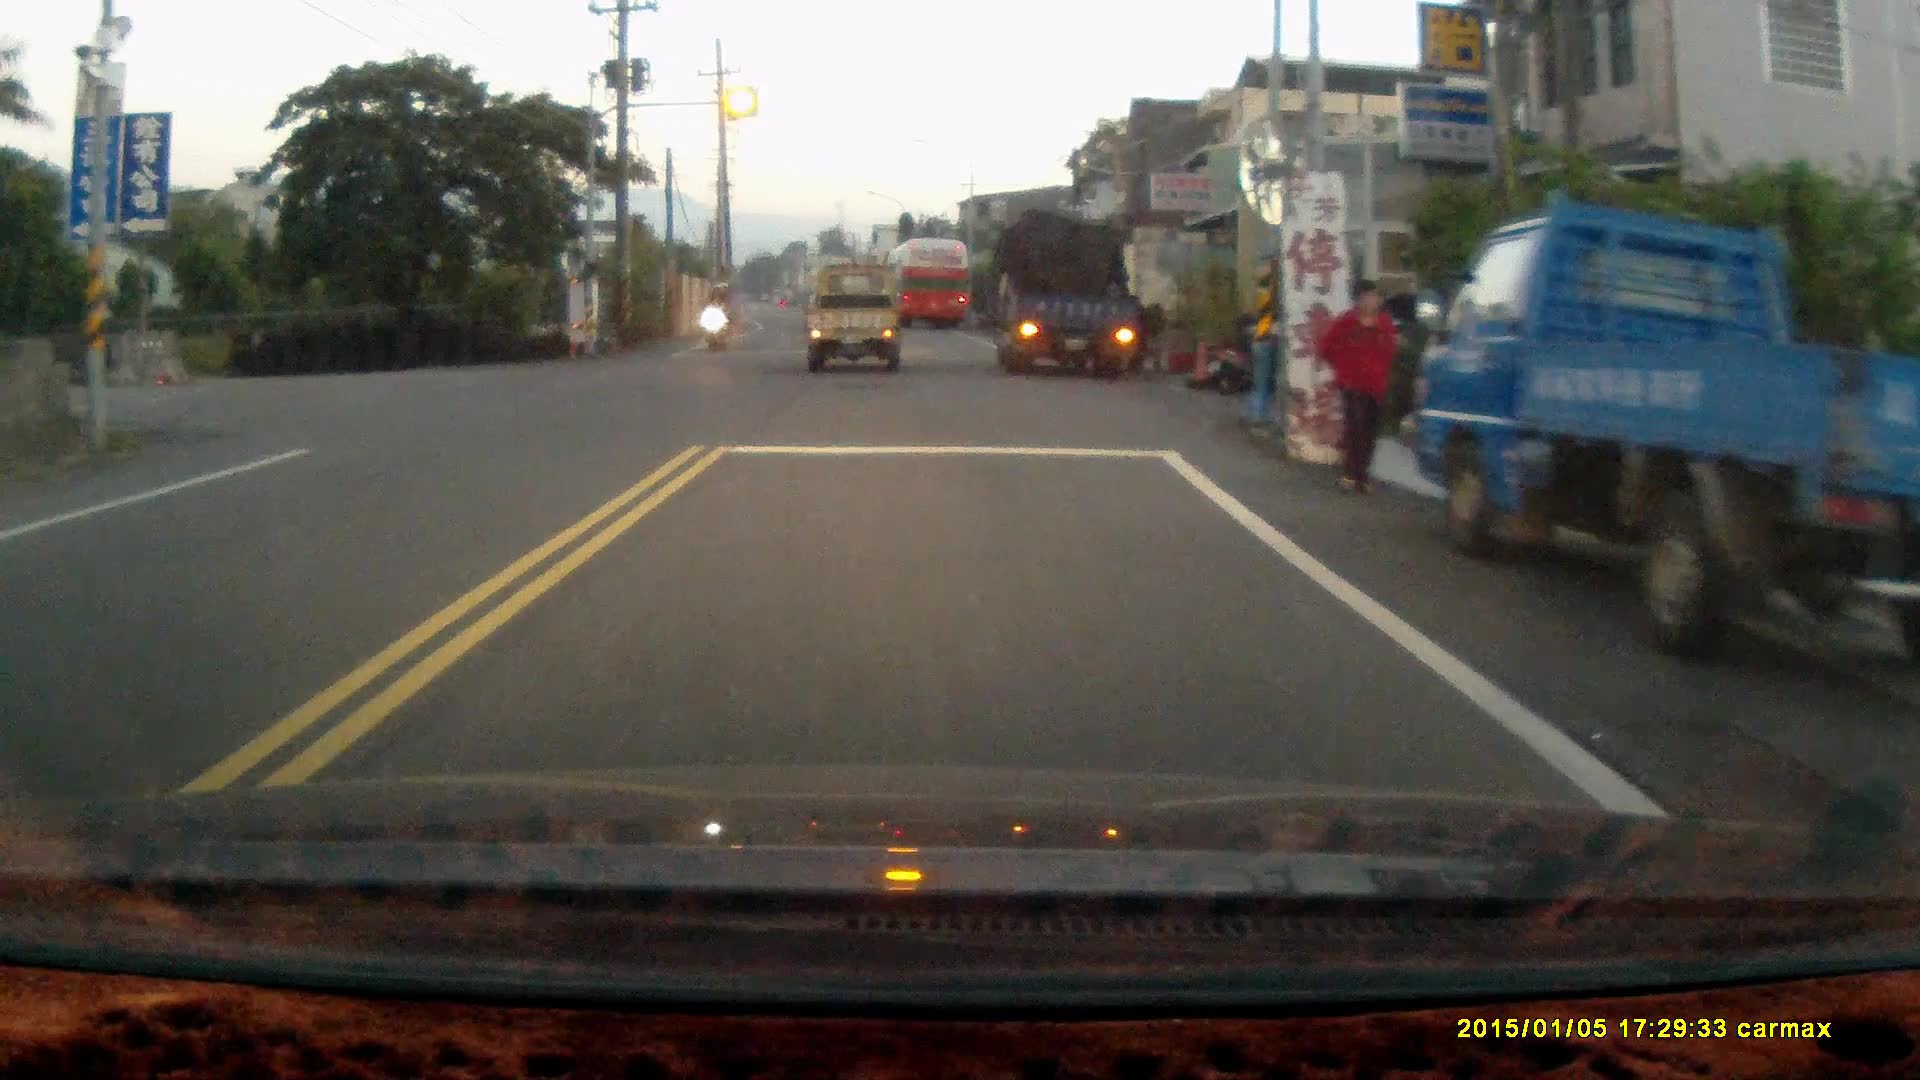pedestrian: (1318, 276, 1399, 501)
rider: (701, 280, 732, 350)
vehicle: (1413, 189, 1920, 648), (994, 210, 1159, 384), (809, 264, 907, 372), (889, 239, 973, 328)
